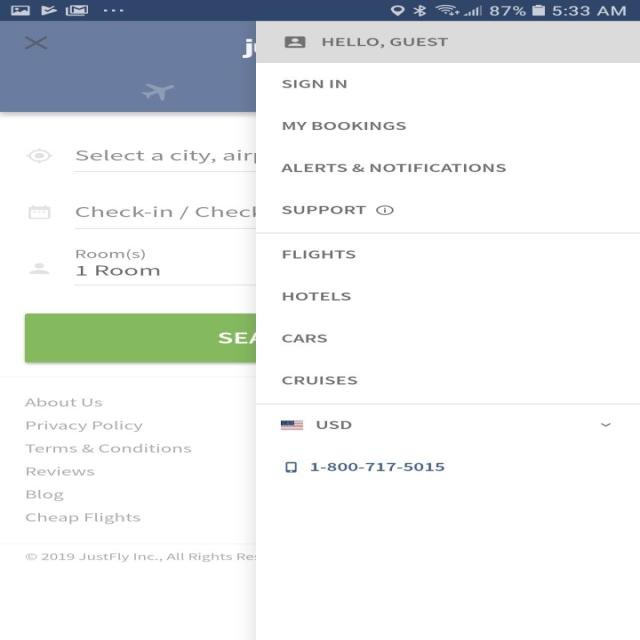Drawer: (255, 21, 639, 637)
Icon: (284, 36, 306, 48), (376, 205, 394, 215), (600, 422, 611, 427)
Image: (279, 420, 303, 430), (284, 462, 297, 472)
Text: (280, 163, 506, 172), (322, 38, 448, 49), (310, 462, 444, 471), (282, 122, 406, 130), (280, 205, 366, 214), (282, 292, 352, 301), (280, 376, 358, 384), (282, 250, 356, 258), (281, 80, 347, 88), (281, 333, 327, 342), (316, 420, 352, 429)
